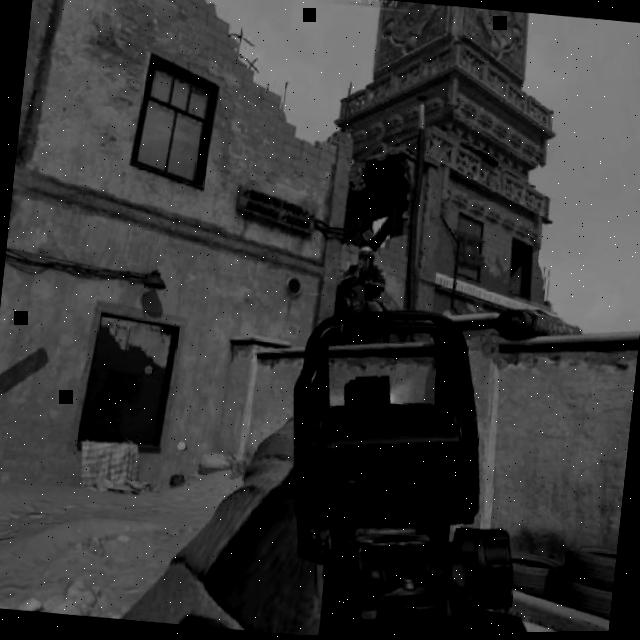MW2_body: (338, 227, 392, 316)
